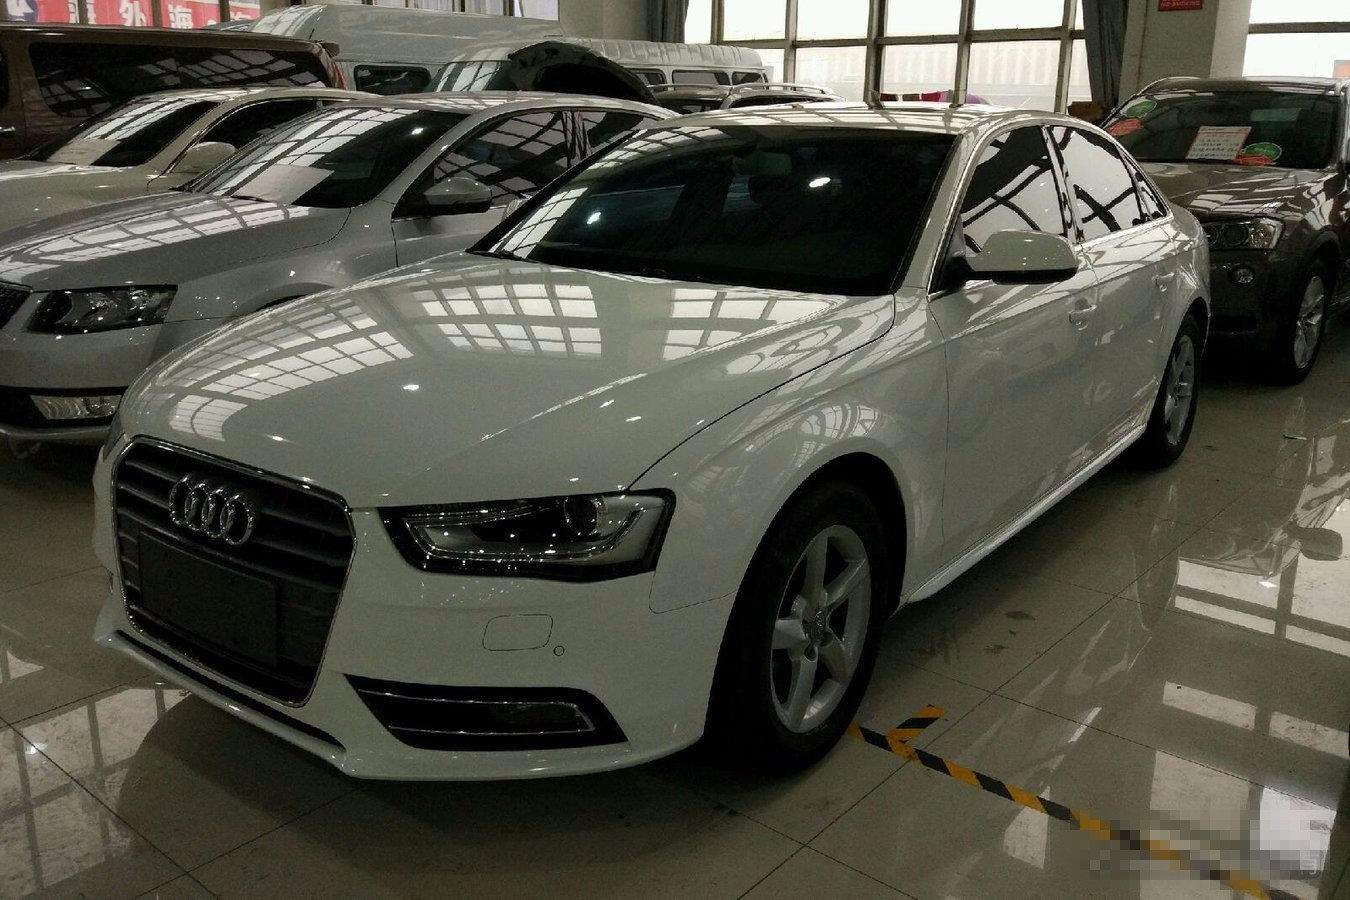family sedan: (128, 77, 1240, 801), (19, 81, 511, 443), (1094, 57, 1350, 371)
